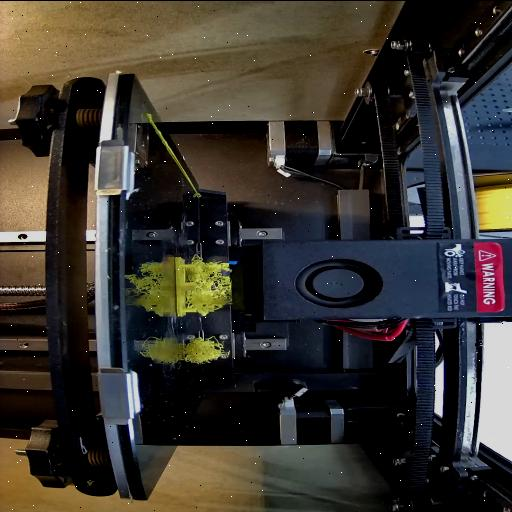spaghetti: (190, 254, 240, 309), (182, 334, 224, 364)
